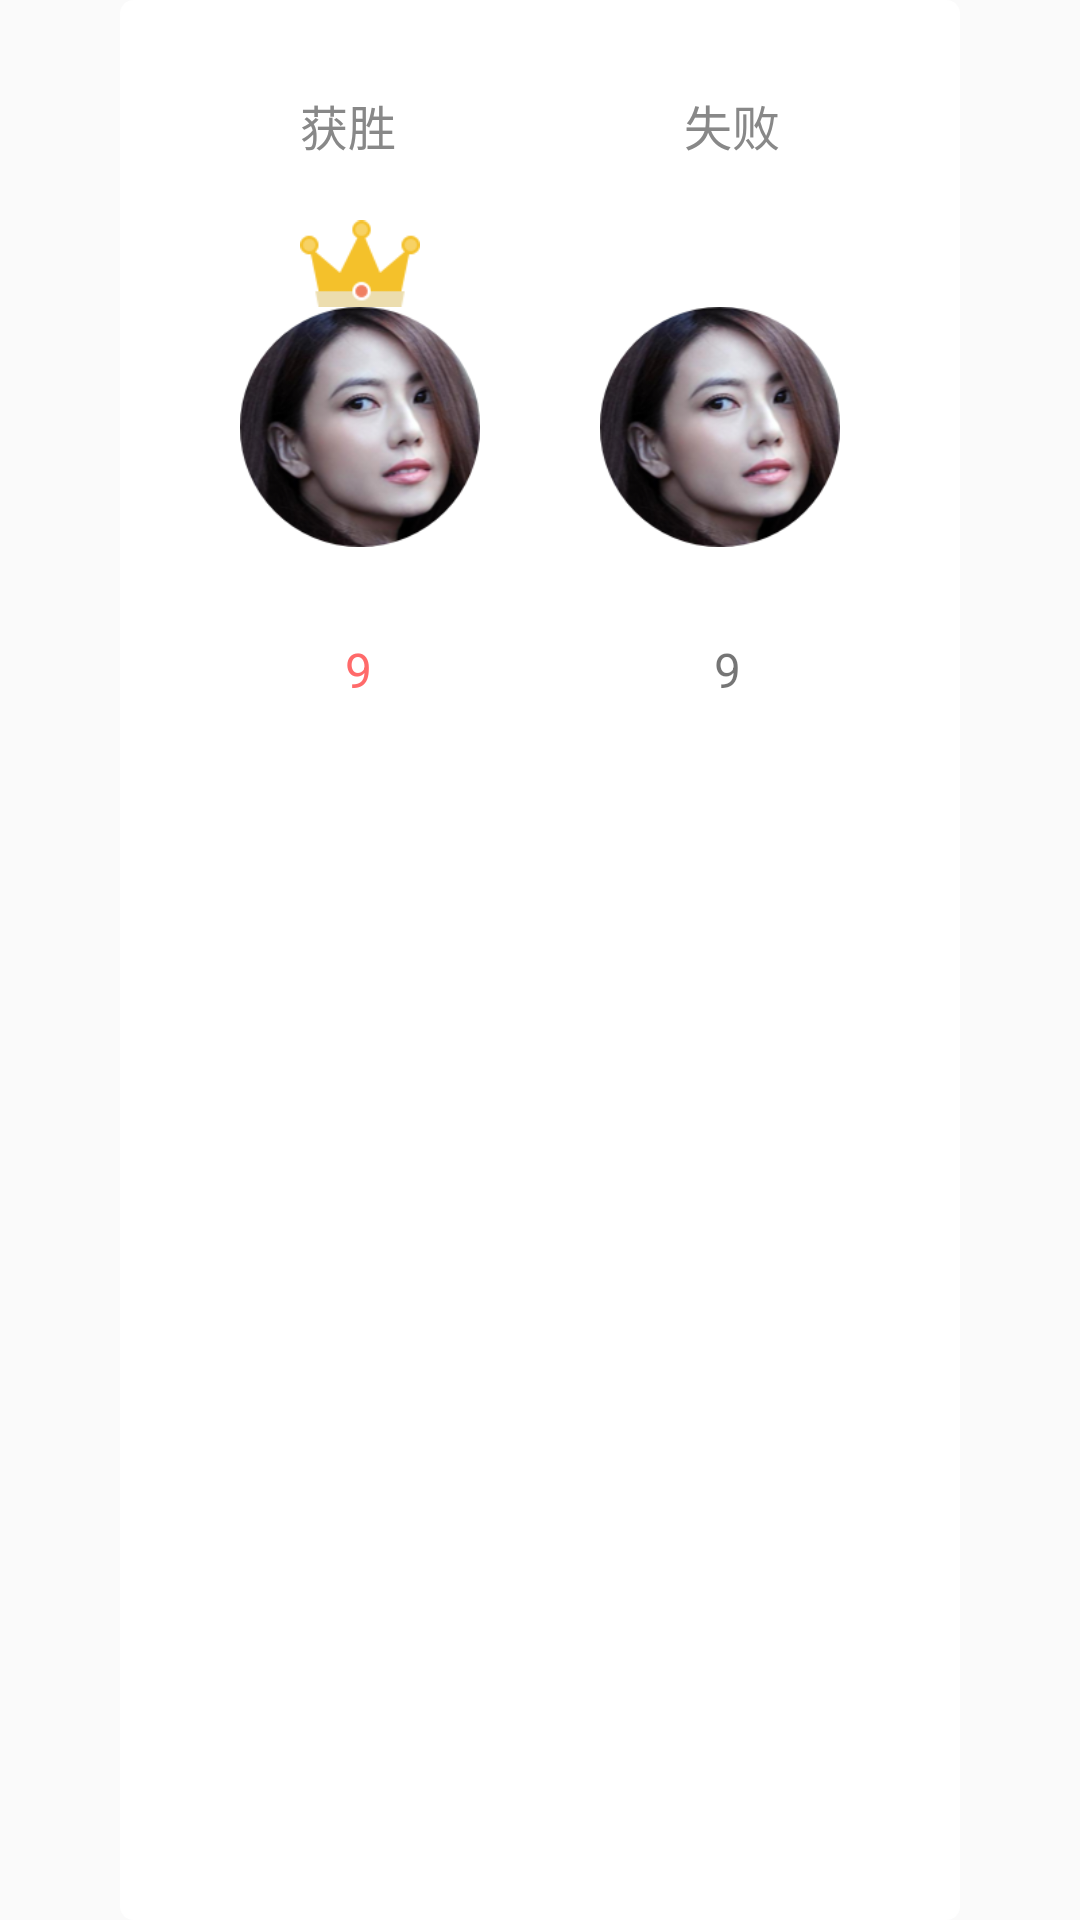

Where to tap for icons on this 1080x1920 app screen, as point (x, y):
winer: point (360, 263)
